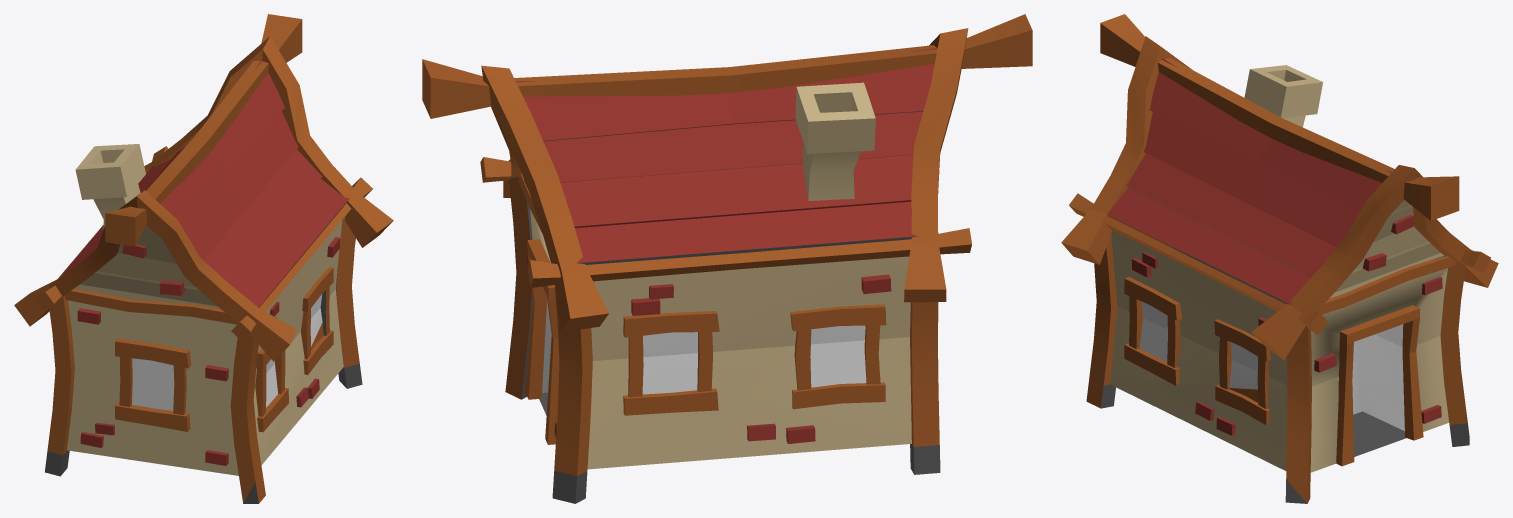
Rendered from Maison.fbx.
The picture shows the model from 3 angles, left to right: view 1: azimuth 30°, elevation 25°; view 2: azimuth 150°, elevation 25°; view 3: azimuth 270°, elevation 25°; orthographic projection. The views are drawn at different scales.
Visible parts, largest first — view 1: defaultMaterial.013; view 2: defaultMaterial.013; view 3: defaultMaterial.013.
Boxes of the visible parts, x1,y1,x2,y2 form: defaultMaterial.013: (14, 14, 393, 503); defaultMaterial.013: (422, 14, 1032, 503); defaultMaterial.013: (1061, 14, 1498, 503).
Size of the model in its own units: 1551 by 1257 by 1542.
